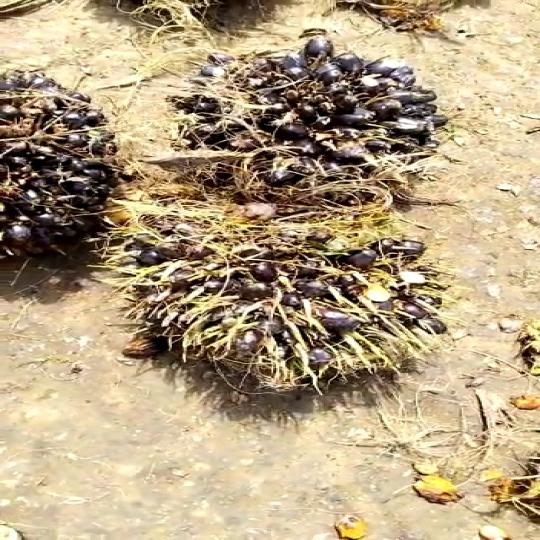mentah: (122, 214, 442, 417), (174, 36, 452, 210), (0, 62, 141, 270)
